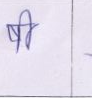i_matra: (20, 9, 36, 50)
